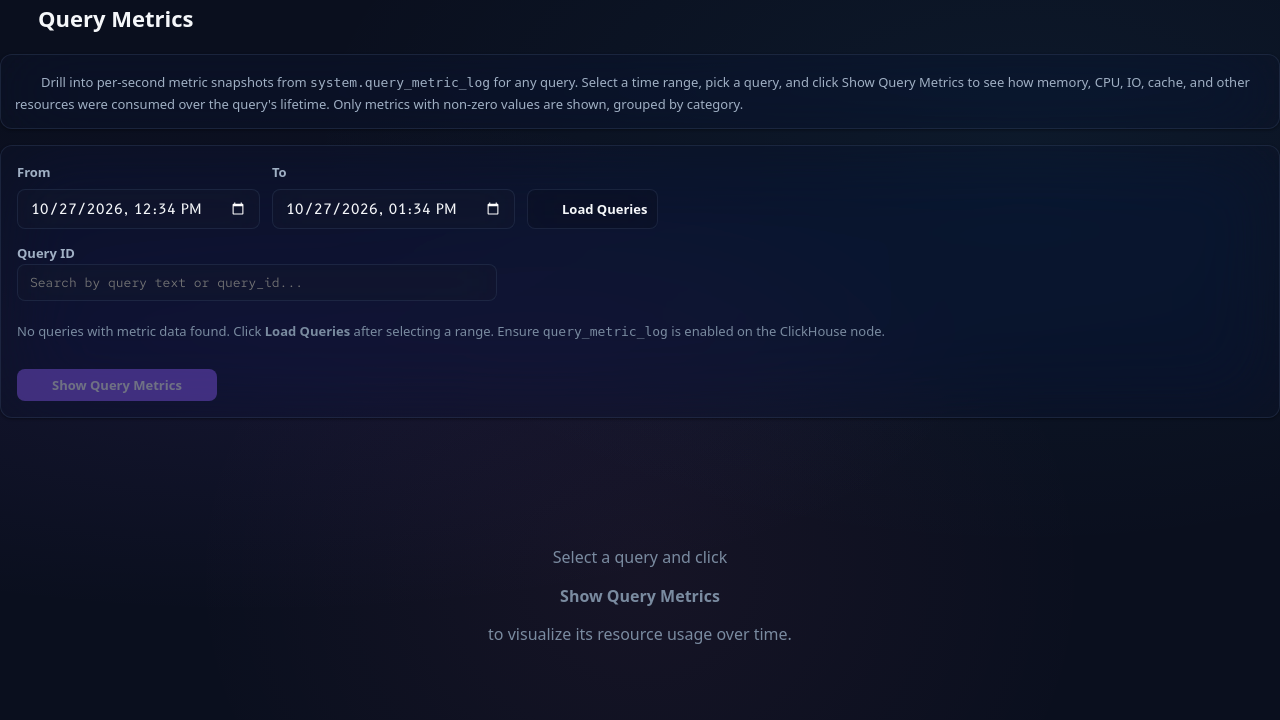
Test: QueryMetrics Component › opens popup and loads full query text
Click the button "Load Queries".
click(593, 209)  # box [527,189,658,229]
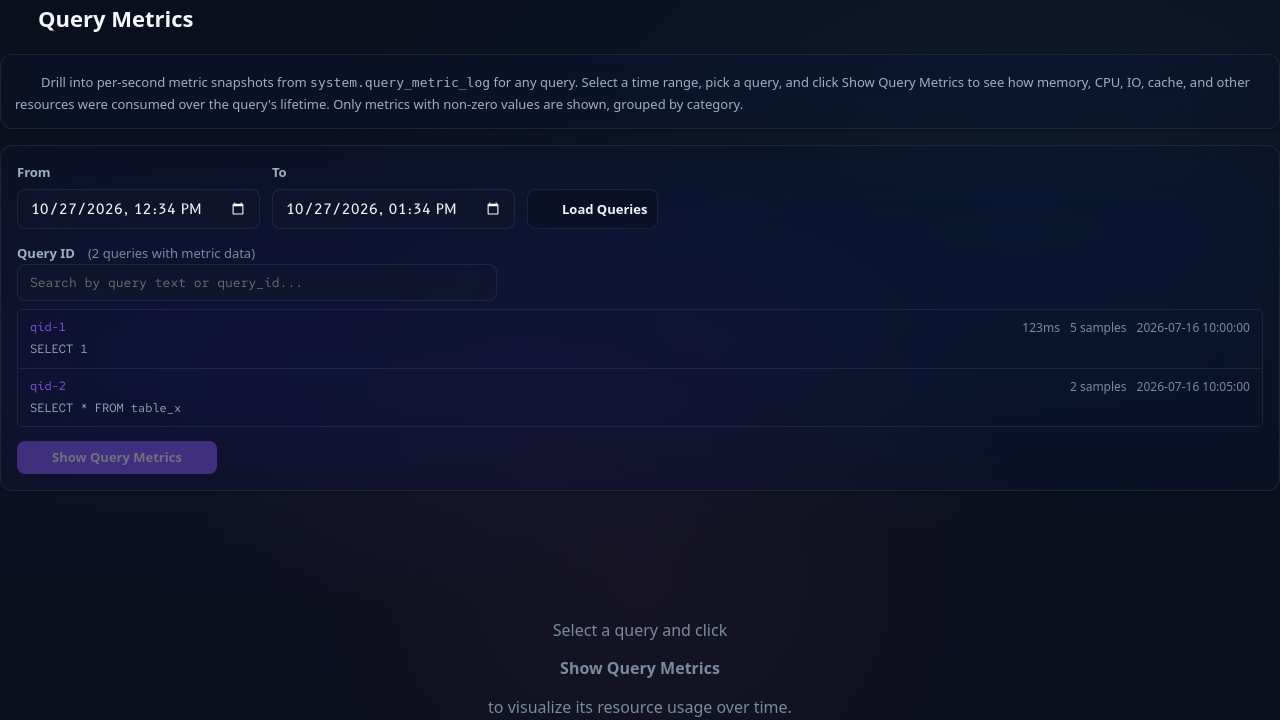
Click the text "qid-1".
click(48, 328)  # box [30,318,66,338]
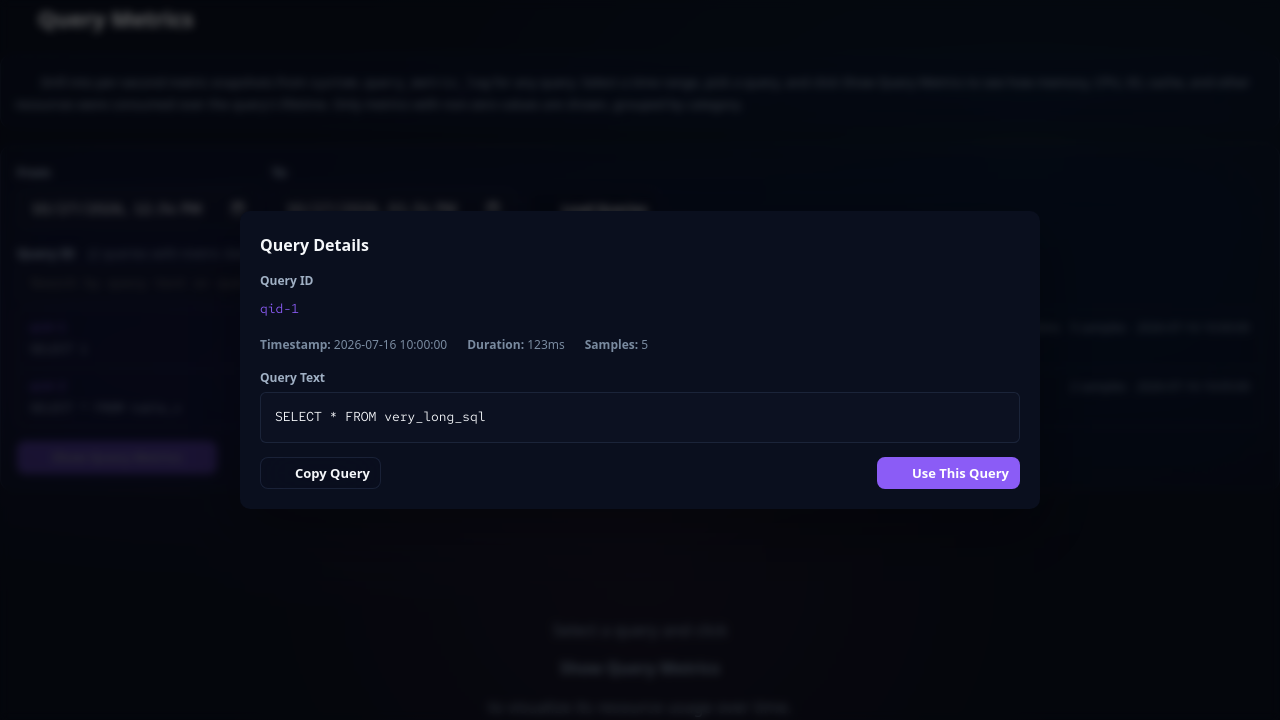
Result: the text "Query Details" is shown at [260,232,369,258]
Result: the text "SELECT * FROM very_long_sql" is shown at [260,392,1020,443]
